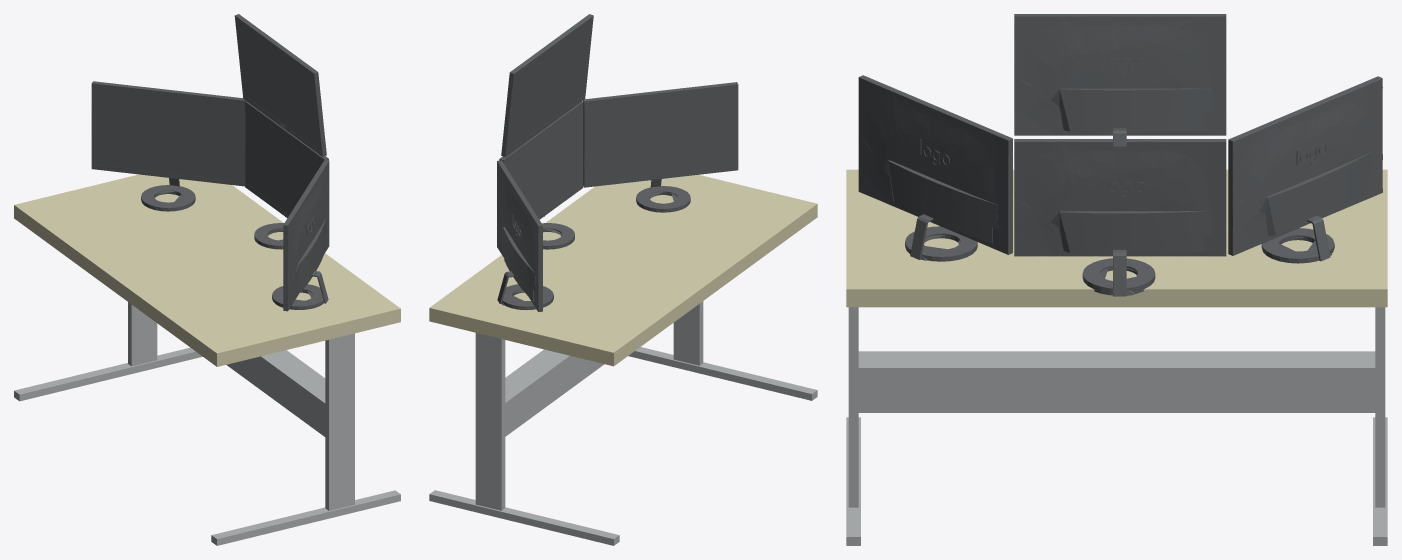
Rendered from desk.glb.
3 views of the same model, side by side, from view 1: azimuth 30°, elevation 25°; view 2: azimuth 150°, elevation 25°; view 3: azimuth 270°, elevation 25° (orthographic). The views are drawn at different scales.
Visible parts, largest first — view 1: Mesh_Mesh_head_geo.001_lambert2SG.001; view 2: Mesh_Mesh_head_geo.001_lambert2SG.001; view 3: Mesh_Mesh_head_geo.001_lambert2SG.001.
Part boxes in pixels (bbox=[...]): Mesh_Mesh_head_geo.001_lambert2SG.001: bbox=[14, 14, 400, 545]; Mesh_Mesh_head_geo.001_lambert2SG.001: bbox=[429, 14, 817, 545]; Mesh_Mesh_head_geo.001_lambert2SG.001: bbox=[846, 14, 1387, 545].
Bounding box in the file's own units: 29.75 × 57.41 × 54.5.
